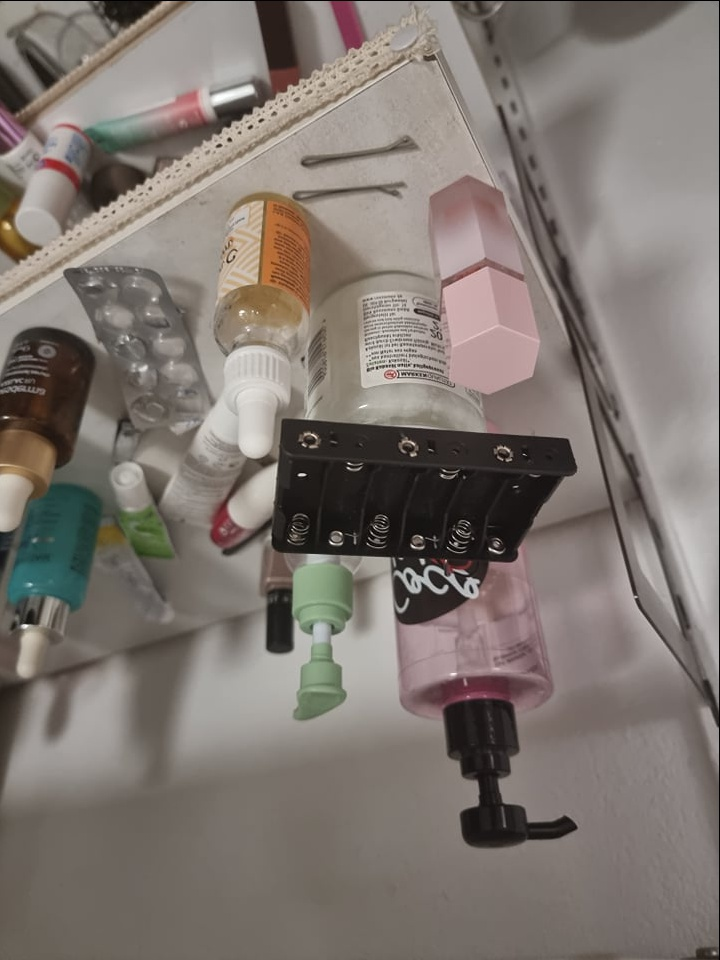BATTERY BOX: (269, 416, 579, 565)
